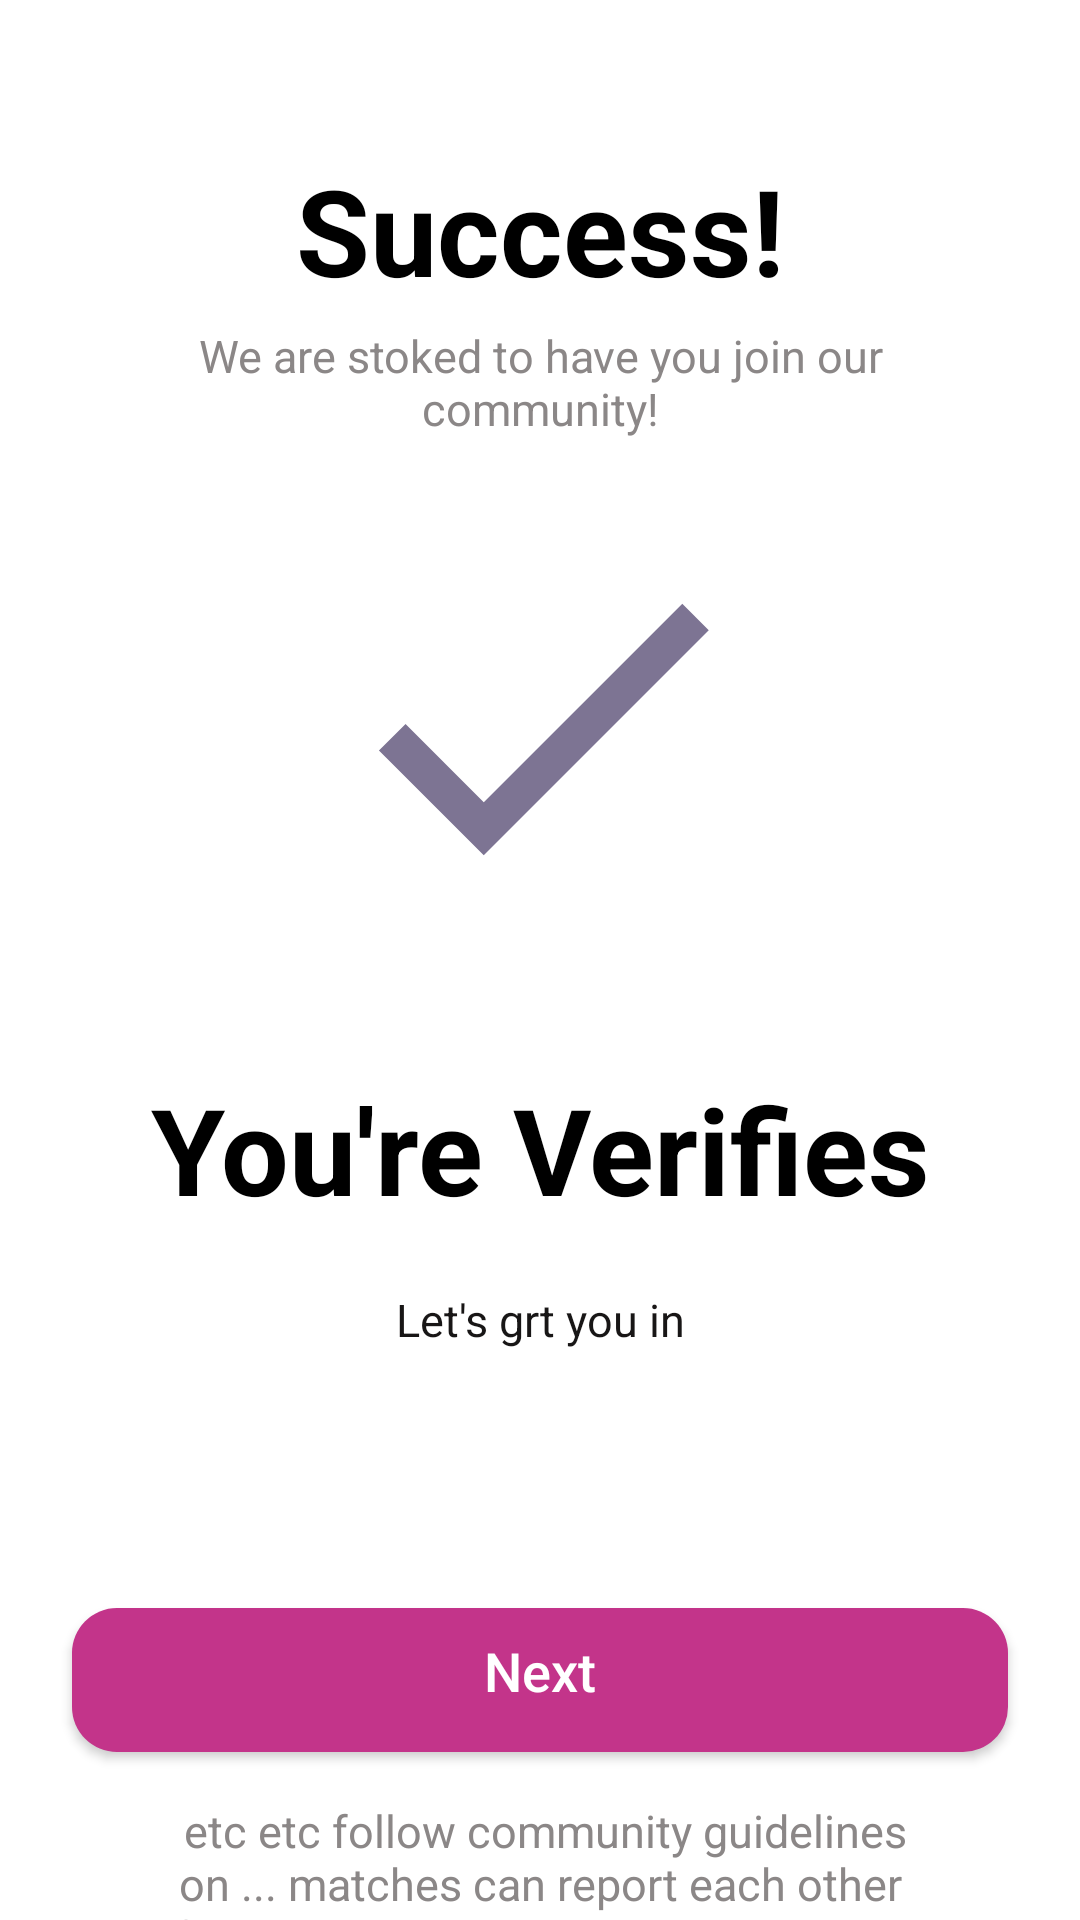

Icon click points for this 1080×1920 phone screenshot, format point (x, y):
success: point (544, 729)
